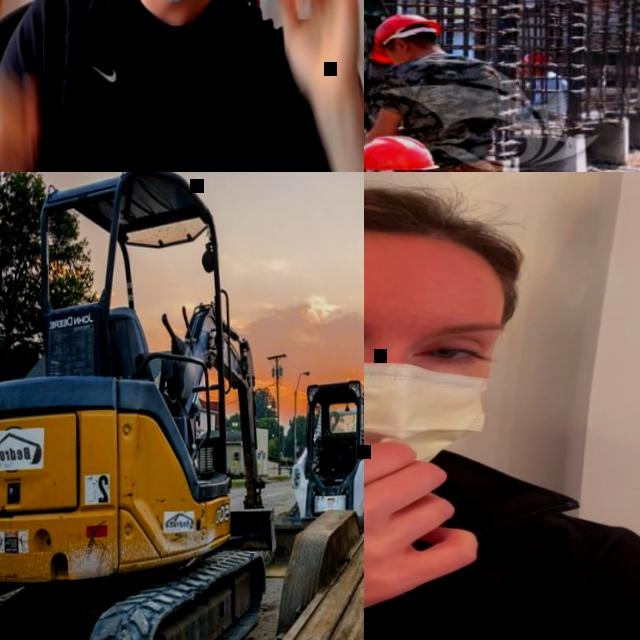Hardhat: (368, 13, 443, 70), (364, 131, 437, 172), (517, 47, 558, 67)
Mask: (364, 310, 499, 484)
NO-Hardhat: (364, 184, 517, 282)
NO-Mask: (387, 49, 414, 68)
NO-Safety Vest: (31, 0, 275, 172), (364, 486, 632, 640), (389, 52, 515, 172), (525, 77, 566, 122)
Person: (364, 174, 640, 640), (0, 0, 364, 172), (364, 9, 510, 172), (514, 49, 566, 130)
machinery: (0, 172, 283, 640), (255, 377, 364, 579)
